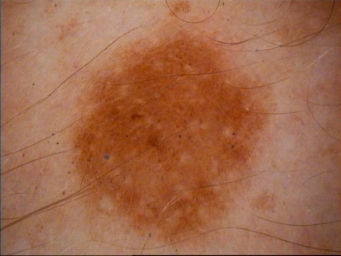nevus: (76, 34, 264, 241)
